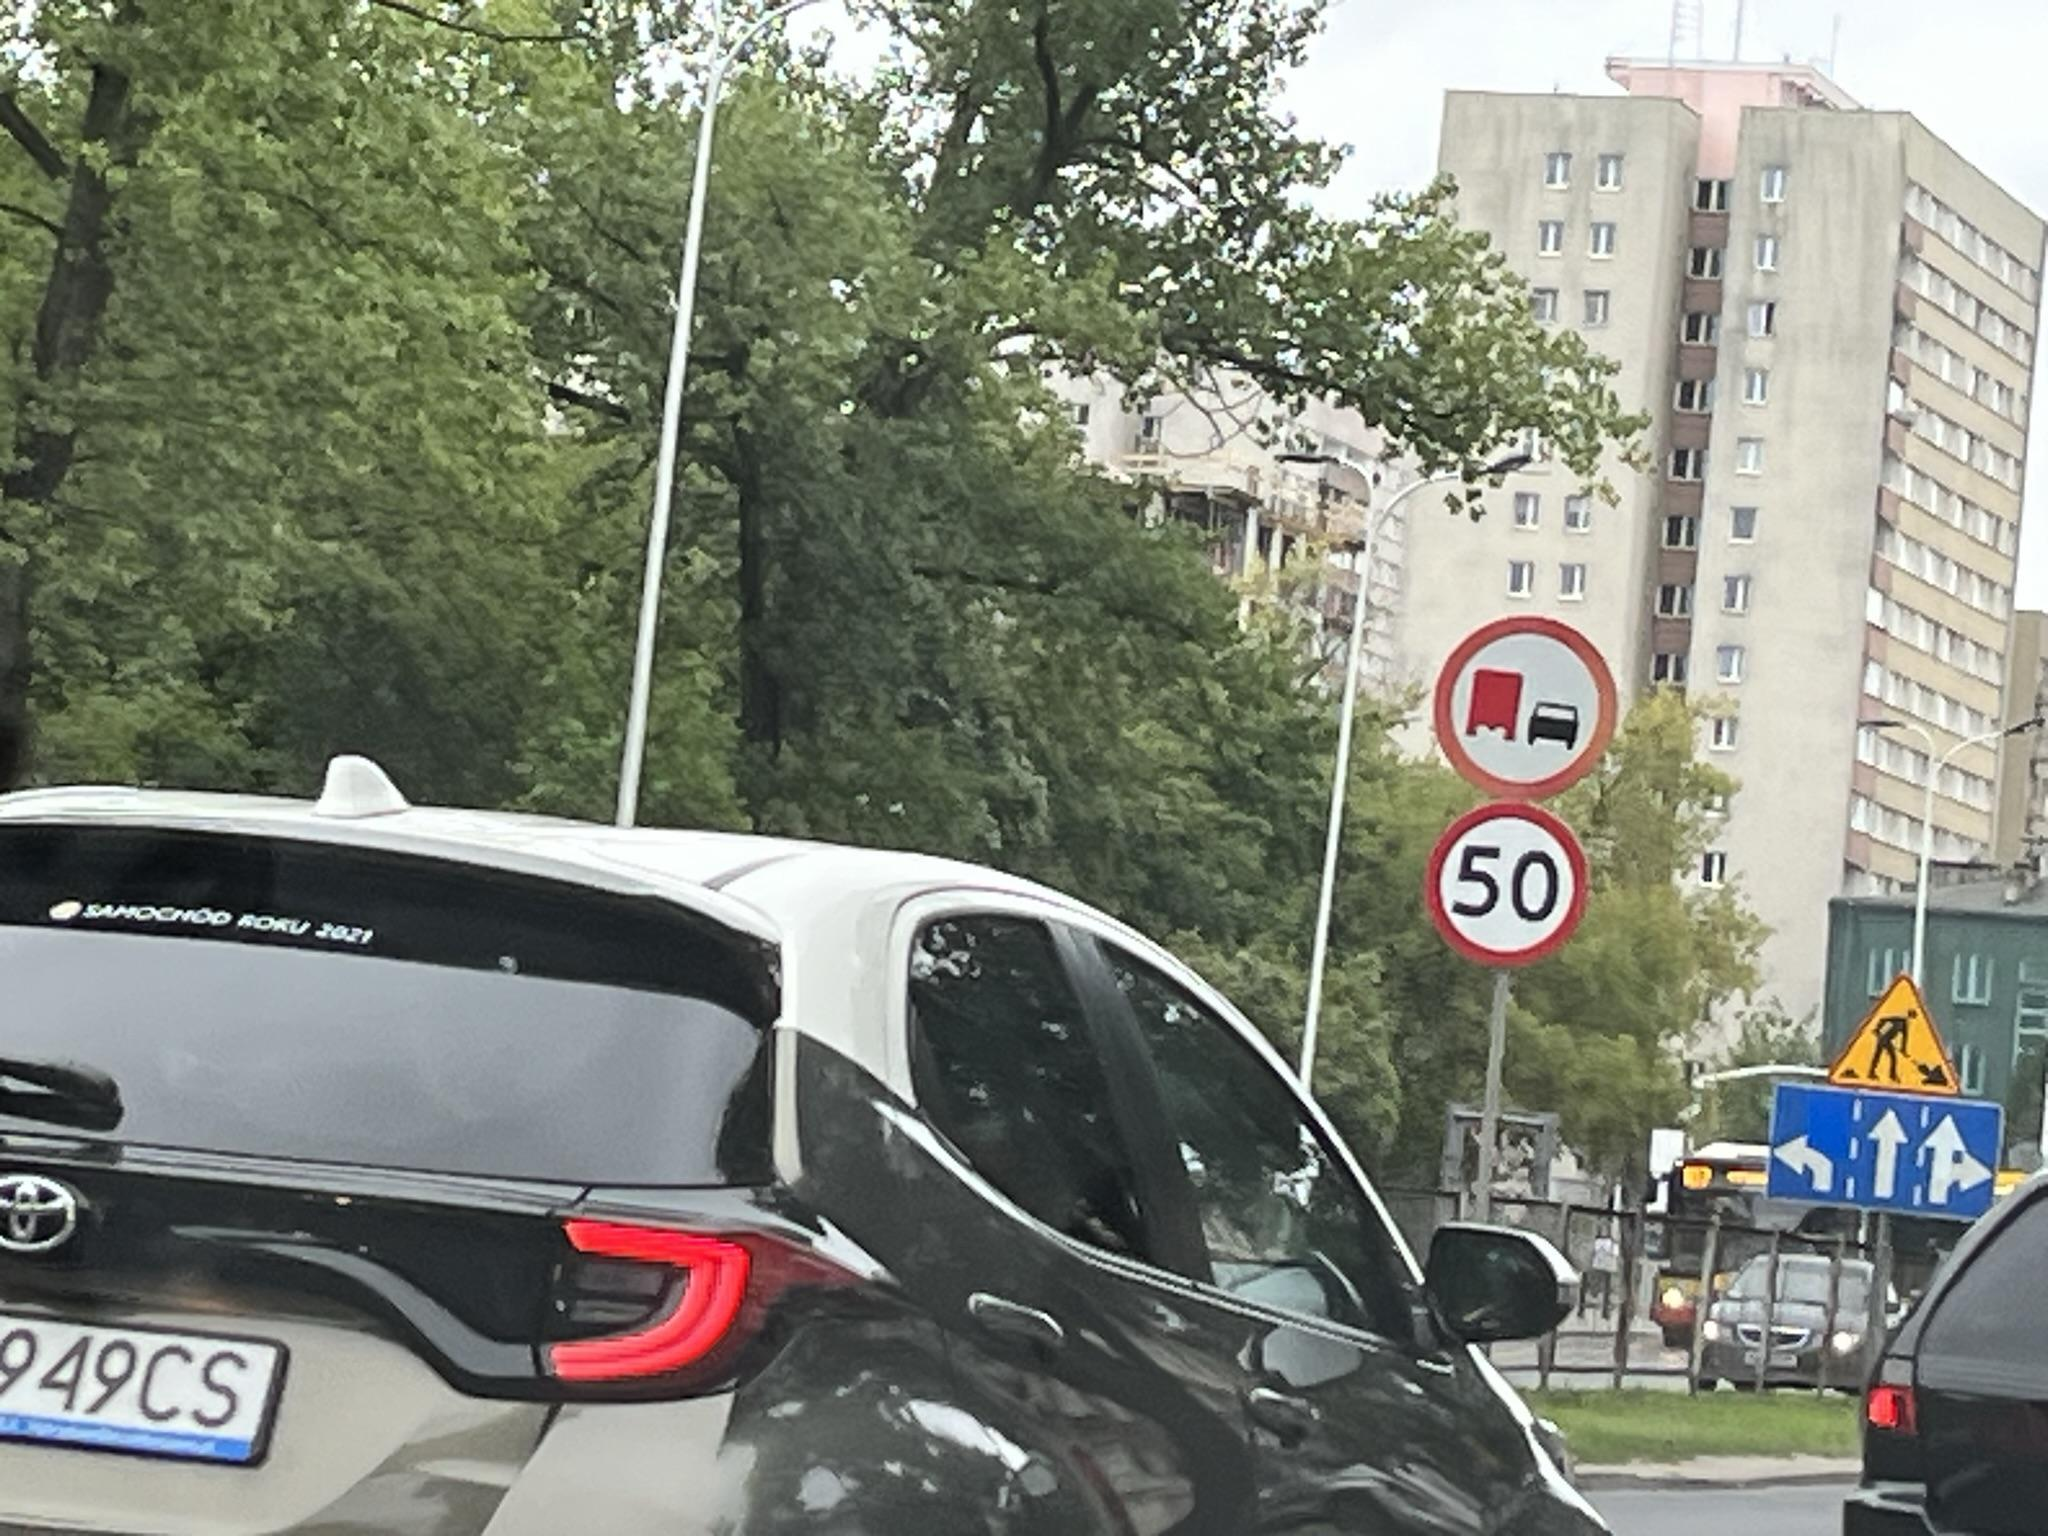other: (1766, 1083, 2008, 1225)
prohibitory: (1430, 615, 1621, 800), (1422, 795, 1588, 970)
warning: (1829, 971, 1963, 1099)
